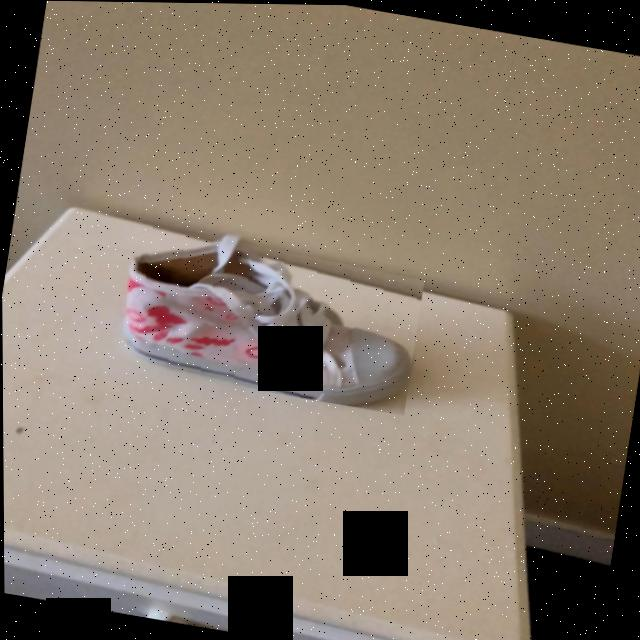shoe: (123, 240, 411, 406)
